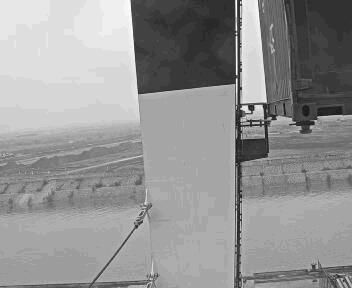twist_lock_1: (131, 130, 169, 157)
